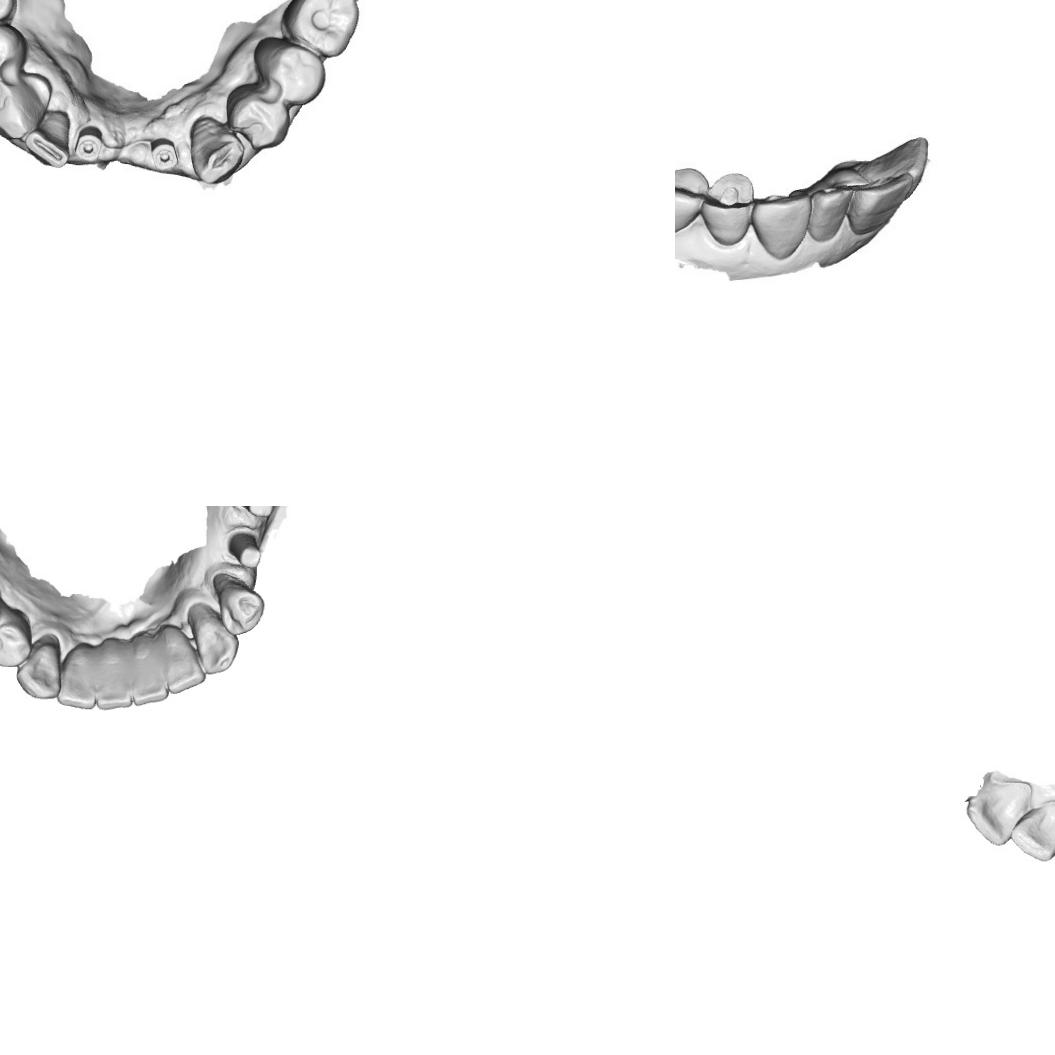abutment: (224, 527, 264, 570), (229, 506, 278, 520)
canine: (754, 188, 812, 263), (186, 118, 248, 186), (186, 602, 240, 676), (15, 630, 62, 699), (0, 75, 50, 139)
implant_plus: (145, 134, 183, 178), (74, 128, 107, 164)
incisor: (964, 778, 1028, 848), (805, 180, 858, 246), (158, 624, 207, 694), (93, 636, 135, 712), (857, 176, 909, 232), (130, 634, 170, 706), (57, 641, 98, 711), (26, 109, 76, 164), (1011, 800, 1055, 861)
molar: (275, 0, 357, 58)
premolar: (250, 33, 325, 101), (222, 84, 287, 149), (700, 176, 752, 244), (212, 572, 266, 636), (675, 163, 709, 233), (0, 608, 34, 668), (0, 22, 26, 87)
